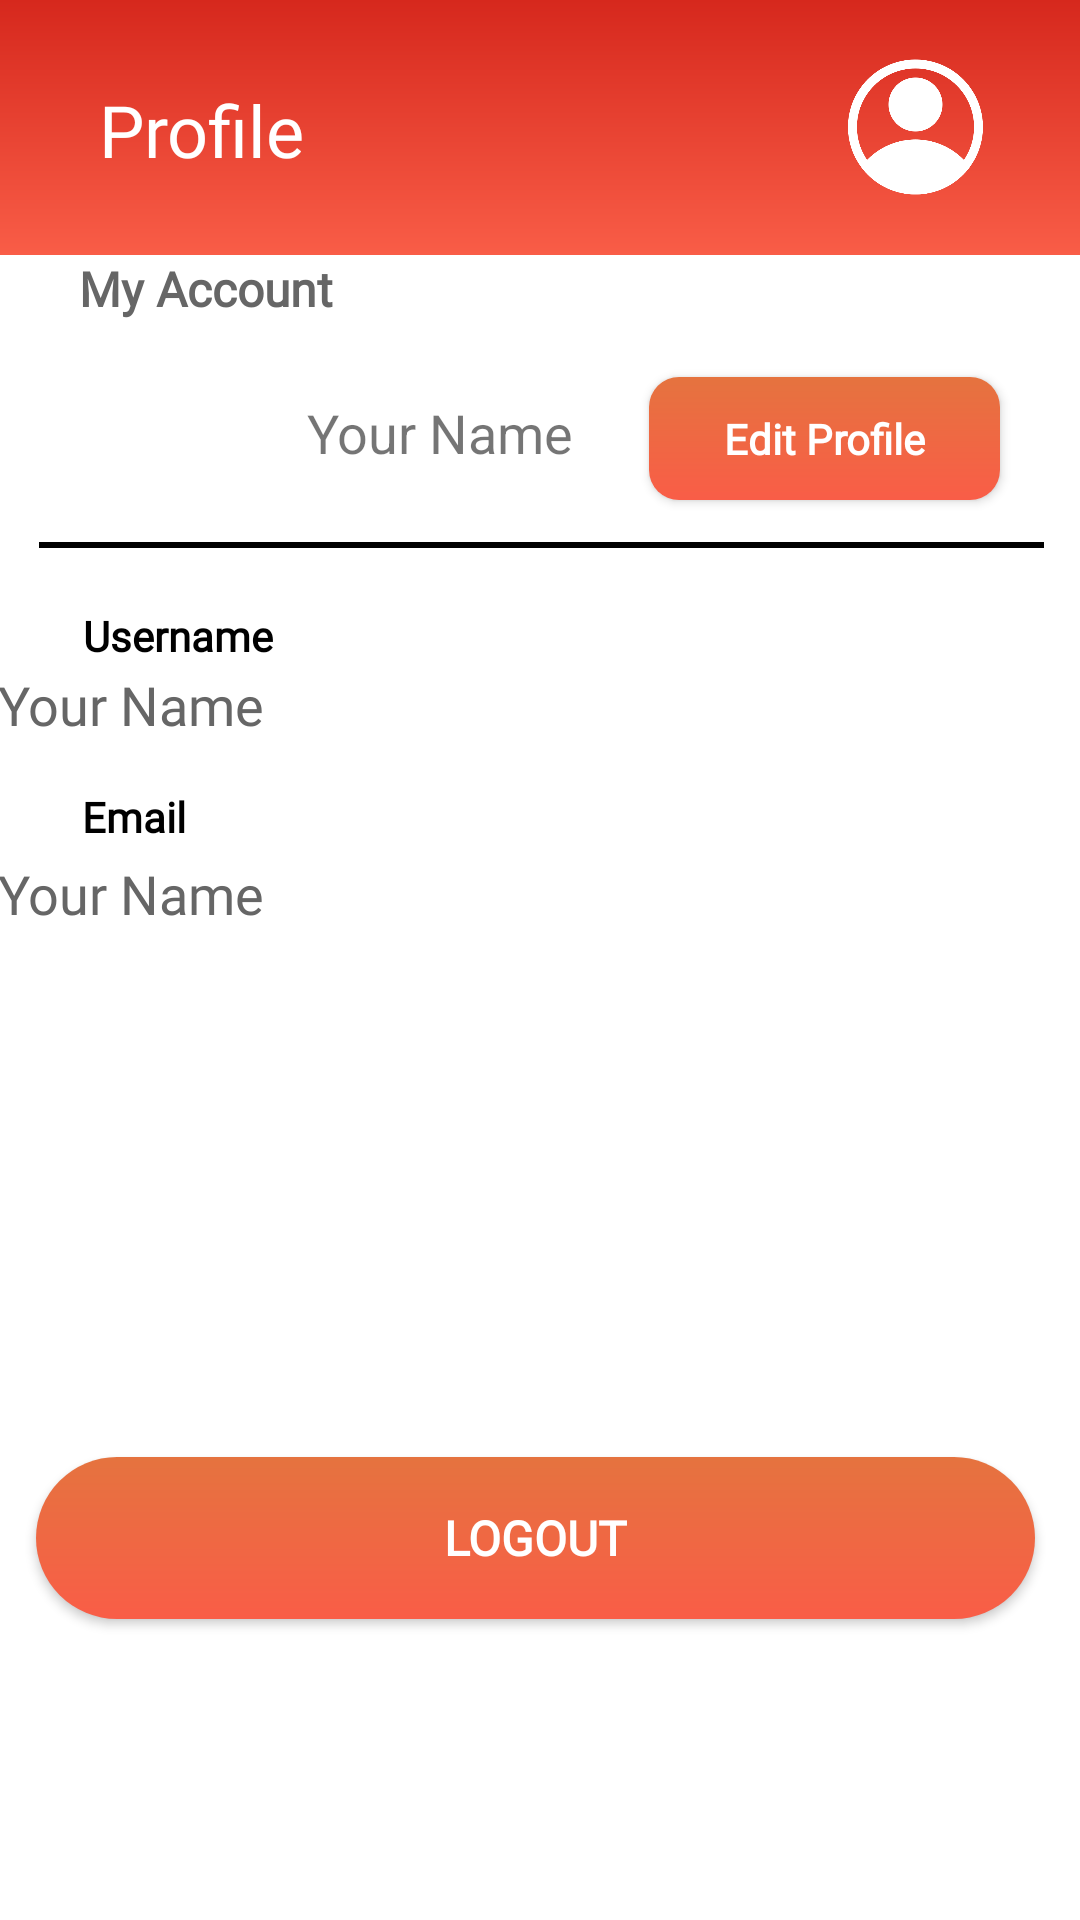

Icons on this 1080×1920 Android screen, each with the point to tap as (x=x, y=y):
account: (x=915, y=129)
